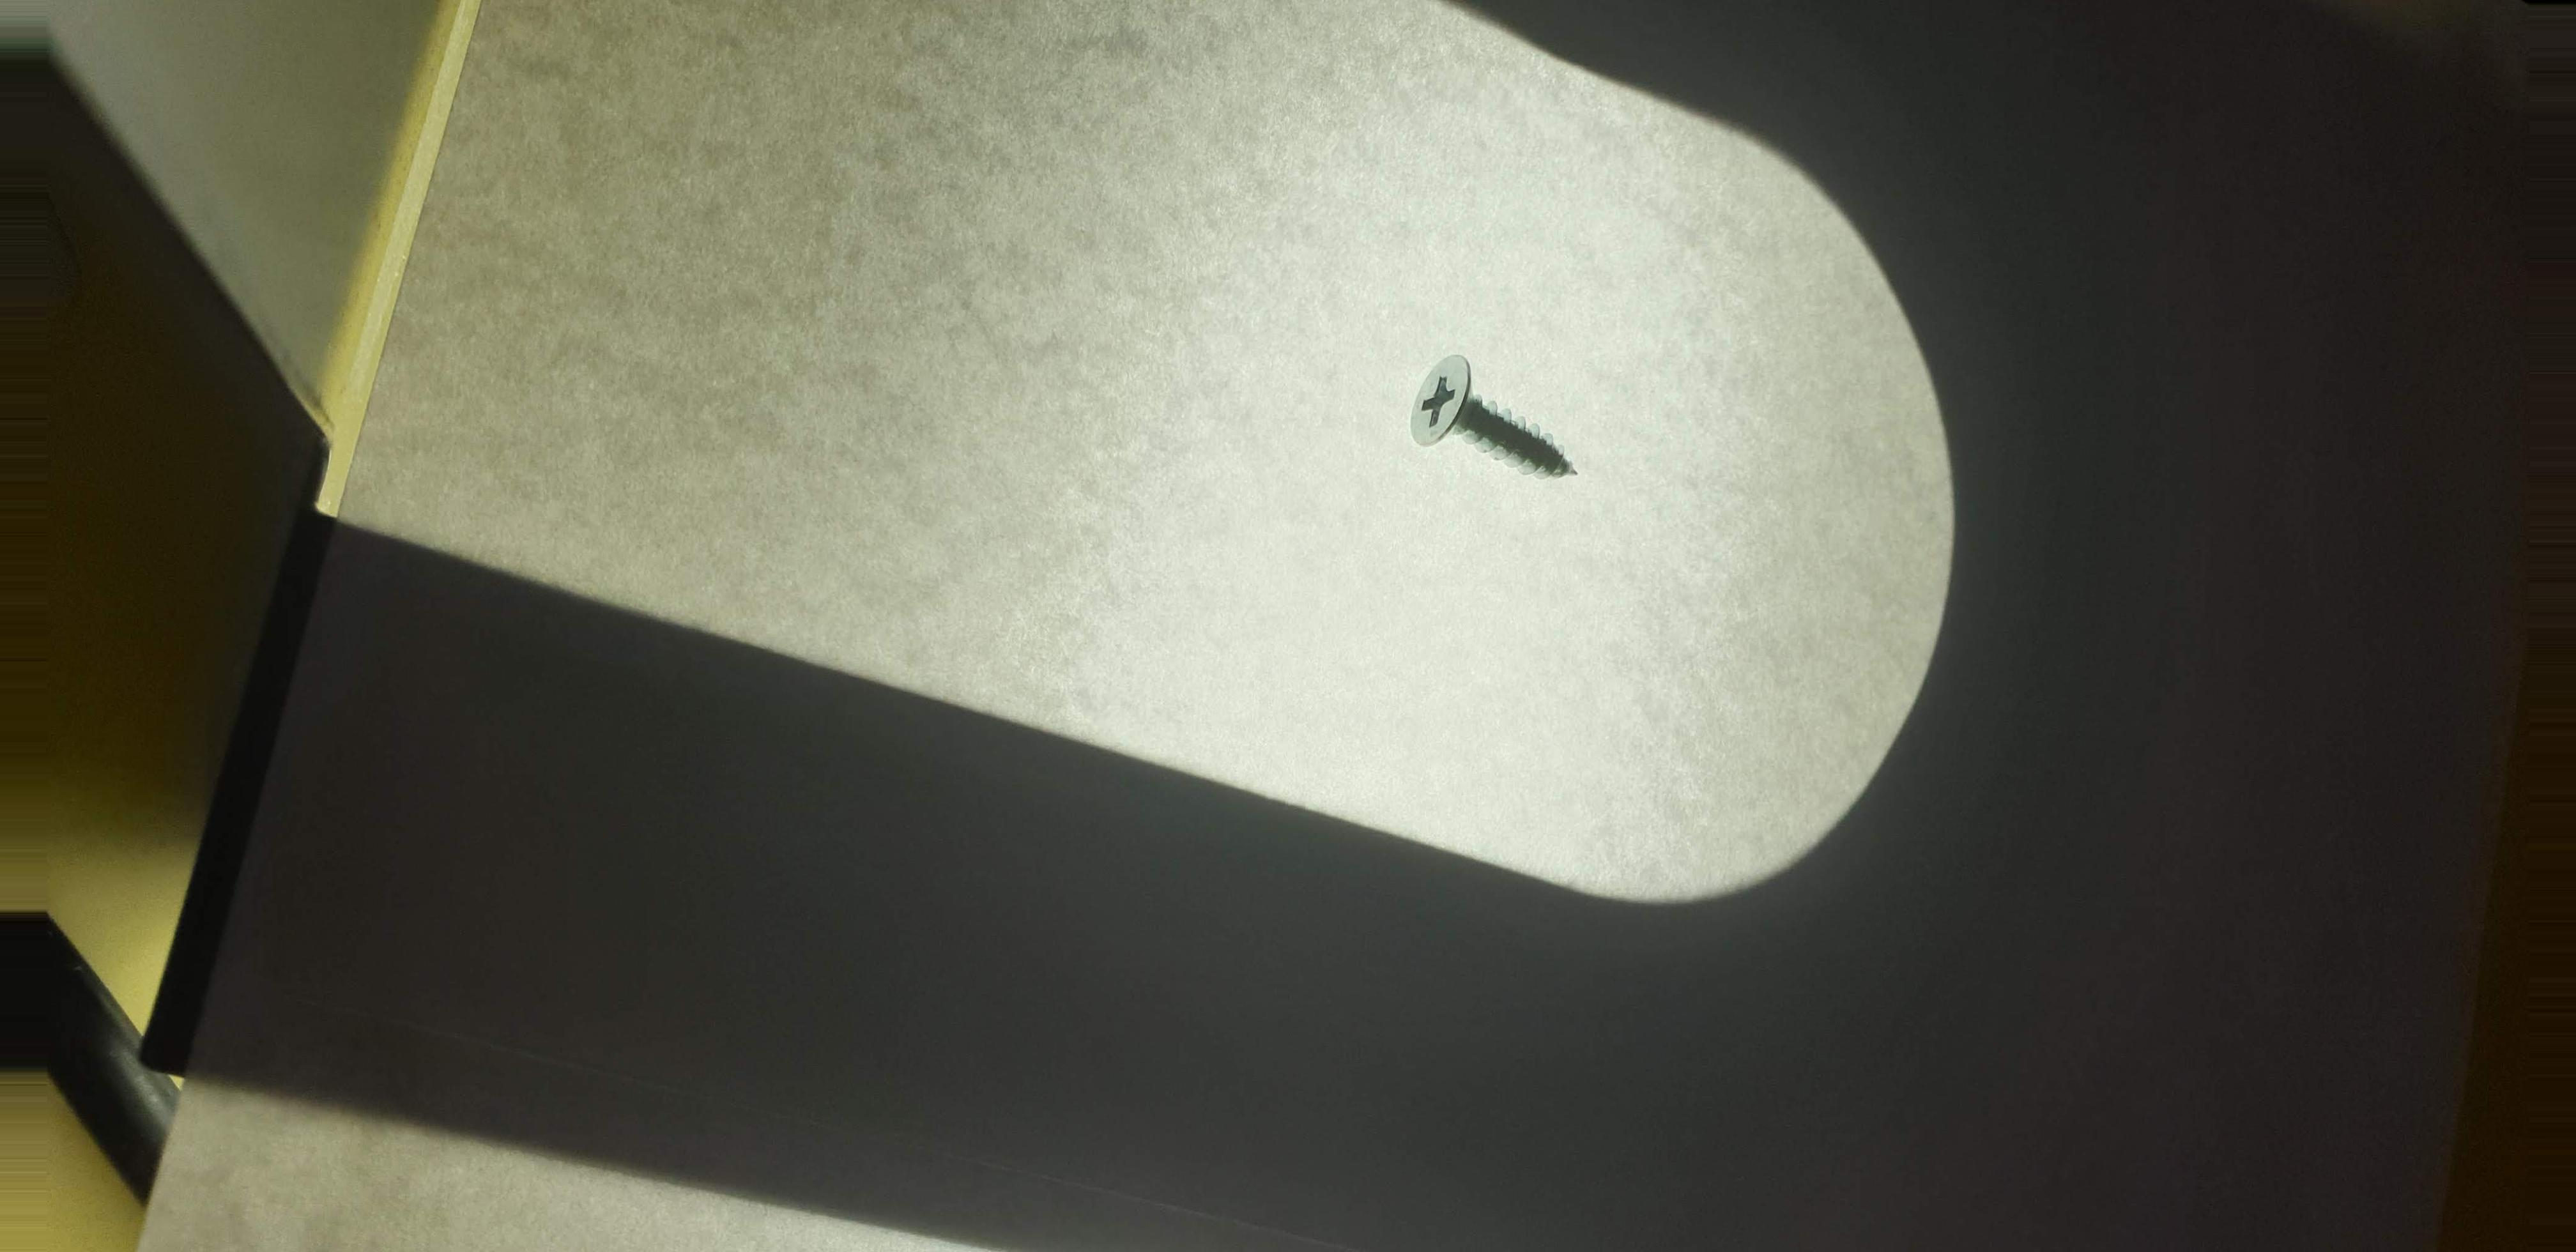S003: (1387, 327, 1610, 516)
